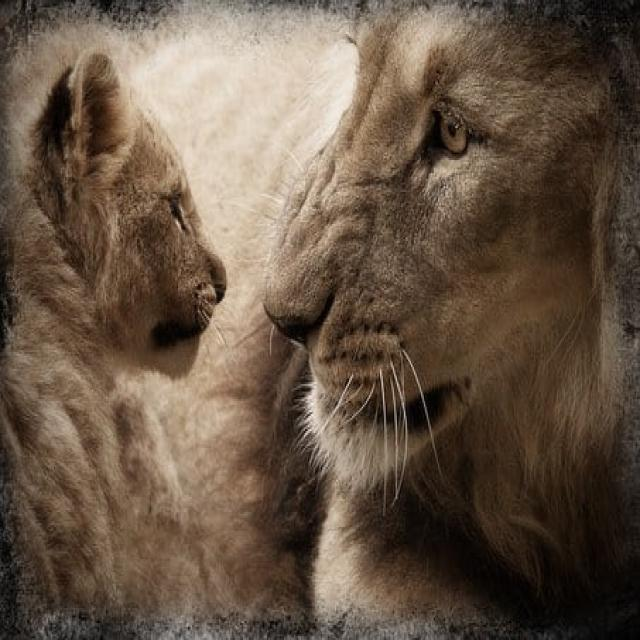Lion: (144, 23, 639, 622), (4, 22, 229, 598)
